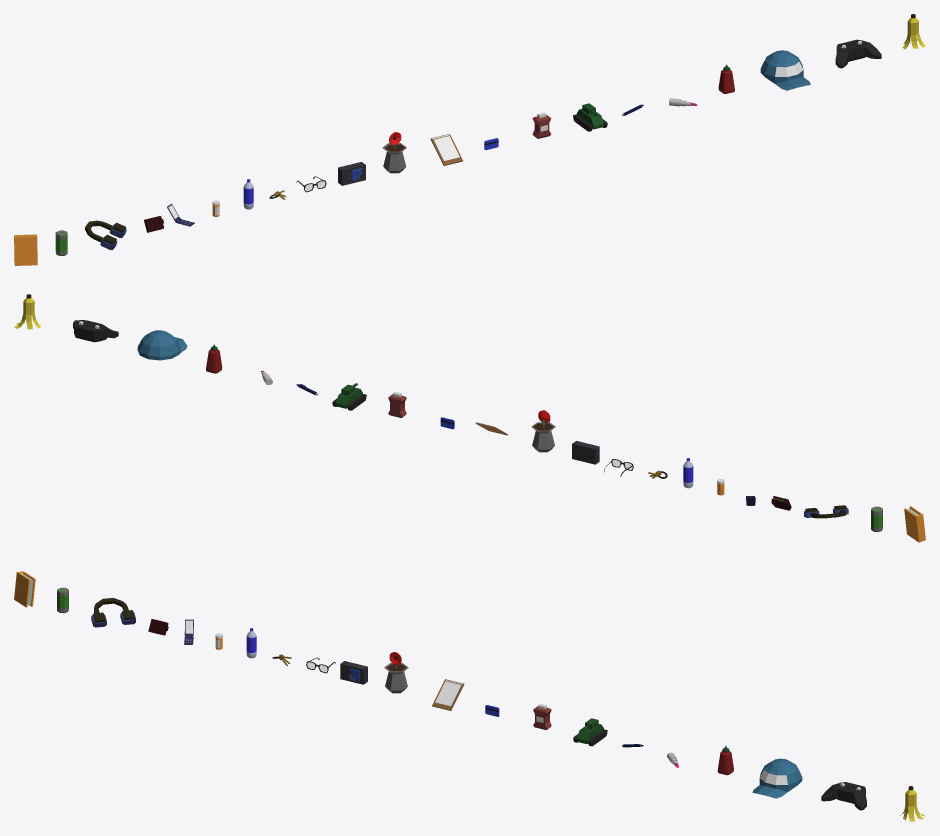
The model's file is items.gltf.
3 renders of one model, top to bottom at view 1: azimuth 30°, elevation 25°; view 2: azimuth 150°, elevation 25°; view 3: azimuth 330°, elevation 25°, orthographic.
Parts seen in each view (by area): view 1: BaseballCap-col, GameController-col, Book-col, FlowerVase-col, Headphones-col, Clipboard-col, ToyTank-col, Camera-col; view 2: BaseballCap-col, GameController-col, FlowerVase-col, ToyTank-col, Book-col, Camera-col; view 3: BaseballCap-col, GameController-col, FlowerVase-col, Headphones-col, Book-col, Clipboard-col, ToyTank-col, Camera-col.
Part boxes in pixels (x1=…): BaseballCap-col: x1=760, y1=50, x2=810, y2=90; GameController-col: x1=835, y1=39, x2=881, y2=68; Book-col: x1=14, y1=234, x2=37, y2=265; FlowerVase-col: x1=382, y1=132, x2=406, y2=173; Headphones-col: x1=85, y1=220, x2=126, y2=250; Clipboard-col: x1=430, y1=134, x2=462, y2=165; ToyTank-col: x1=573, y1=103, x2=607, y2=131; Camera-col: x1=338, y1=162, x2=365, y2=185; BaseballCap-col: x1=137, y1=330, x2=187, y2=360; GameController-col: x1=73, y1=320, x2=118, y2=342; FlowerVase-col: x1=531, y1=410, x2=555, y2=452; ToyTank-col: x1=332, y1=383, x2=366, y2=410; Book-col: x1=904, y1=506, x2=925, y2=542; Camera-col: x1=572, y1=441, x2=599, y2=464; BaseballCap-col: x1=752, y1=758, x2=802, y2=798; GameController-col: x1=821, y1=782, x2=866, y2=810; FlowerVase-col: x1=384, y1=652, x2=408, y2=693; Headphones-col: x1=91, y1=598, x2=135, y2=627; Book-col: x1=14, y1=571, x2=35, y2=607; Clipboard-col: x1=432, y1=679, x2=464, y2=710; ToyTank-col: x1=573, y1=718, x2=607, y2=746; Camera-col: x1=340, y1=661, x2=367, y2=684.
Size of the model in its own units: 29.06 by 1.26 by 1.69.
